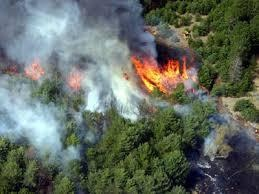fire: (129, 51, 192, 92), (3, 55, 46, 79), (65, 67, 84, 89)
